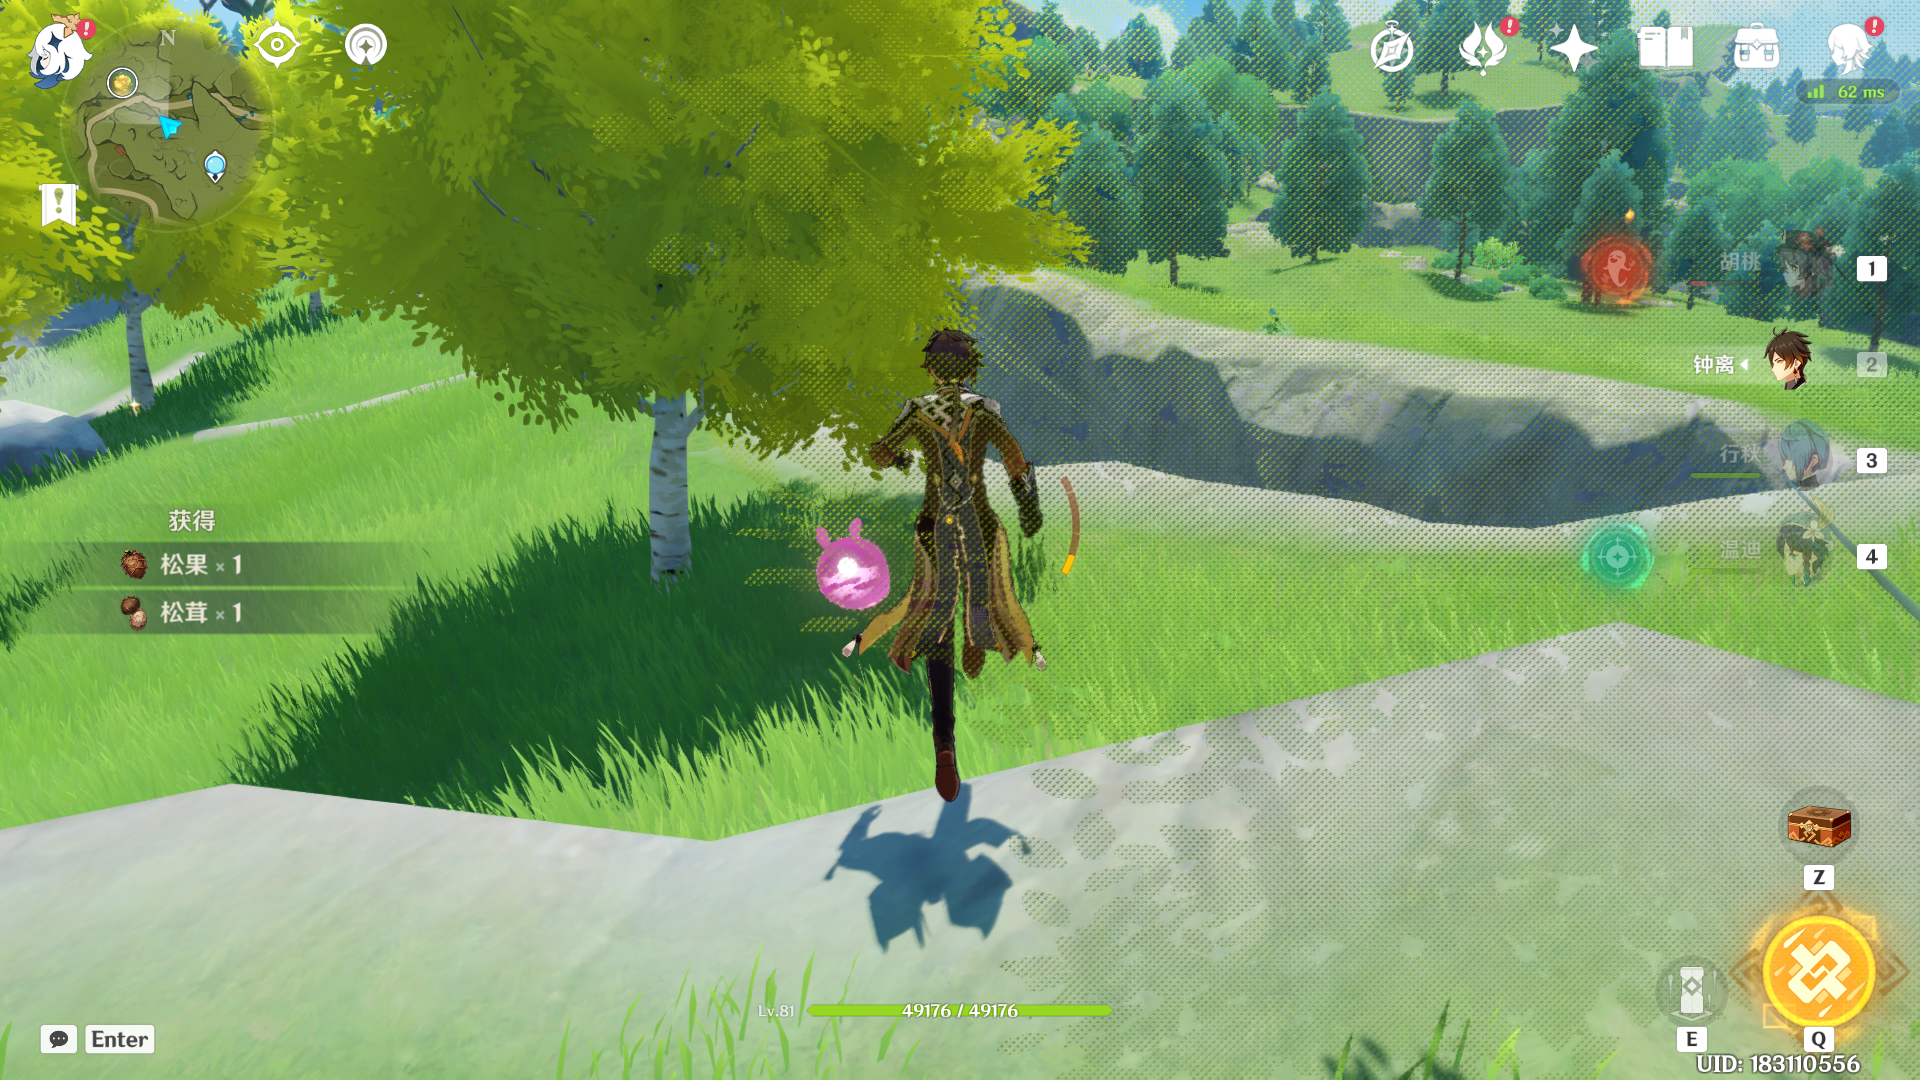character: (822, 298, 1120, 851)
